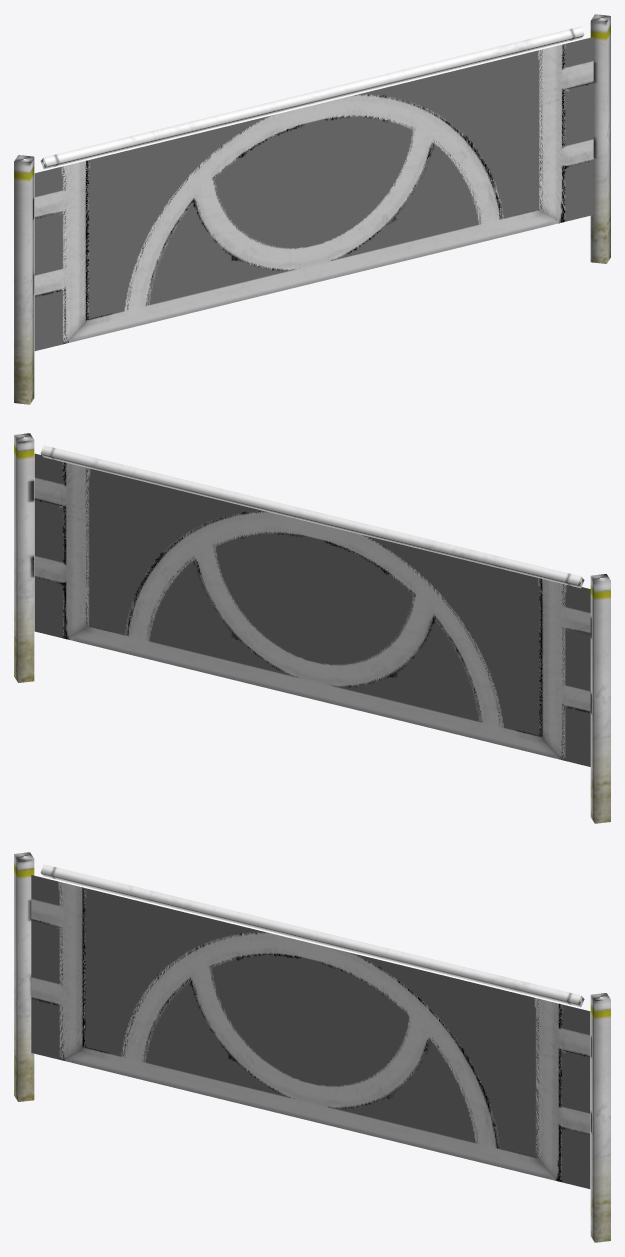
File: guardrail.fbx
3 views of the same model, one above another, from view 1: azimuth 30°, elevation 25°; view 2: azimuth 150°, elevation 25°; view 3: azimuth 330°, elevation 25° (orthographic).
Visible parts, largest first — view 1: guardrail; view 2: guardrail; view 3: guardrail.
Part boxes in pixels (x1,y1,x2,y2): guardrail: [14, 14, 610, 404]; guardrail: [14, 433, 610, 823]; guardrail: [14, 852, 610, 1242].
Bounding box in the file's own units: 207 × 80 × 7.07.
Materials: 1 (1 with a texture image).
